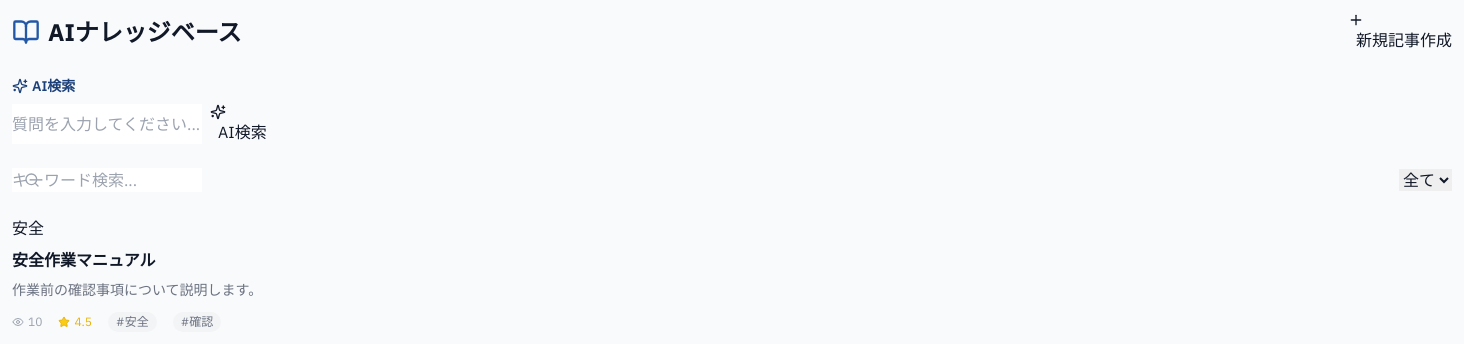
KnowledgePage › カテゴリフィルターで記事を絞り込める
Expected: the heading "安全作業マニュアル" is shown, [12, 250, 156, 270]
Note: QUALITYに切り替えるとSAFETY記事が非表示になる
Select "品質" in the dropdown. click: point(1426, 180)
box: [1399, 169, 1452, 191]
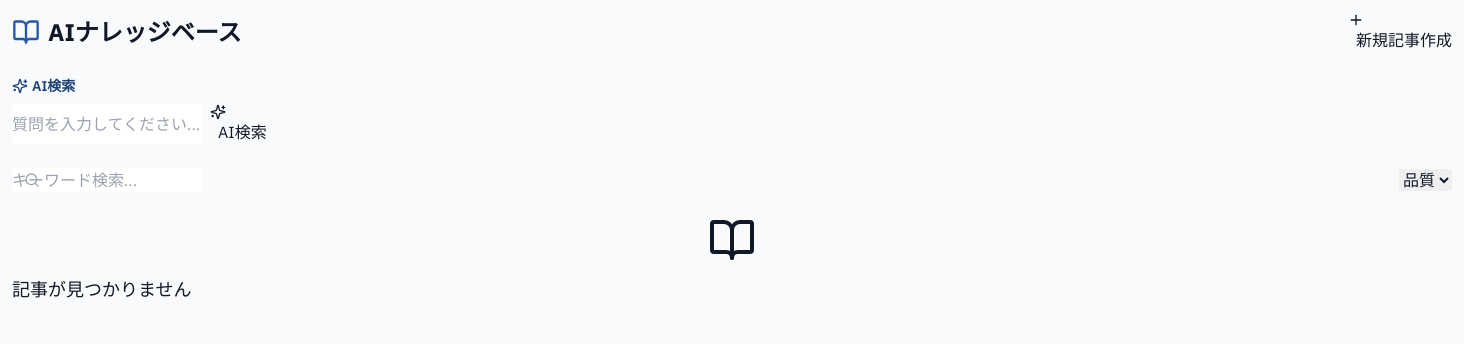
Now the text "記事が見つかりません" is shown, box [12, 278, 192, 301]
